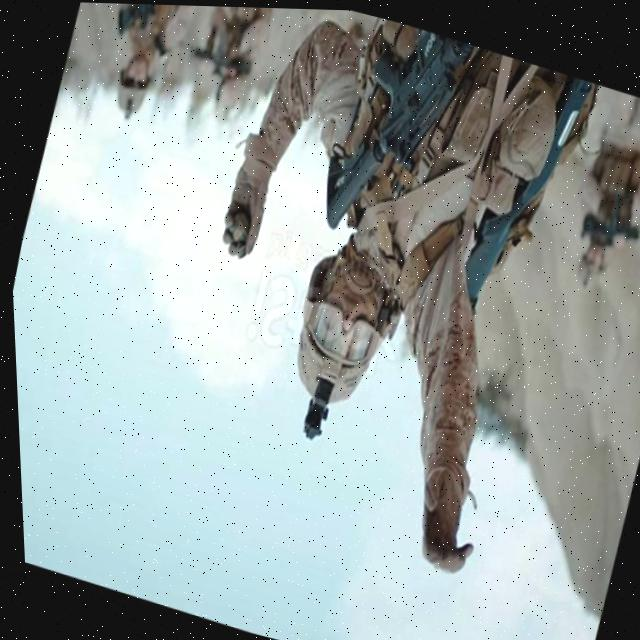grenade: (212, 198, 262, 261)
